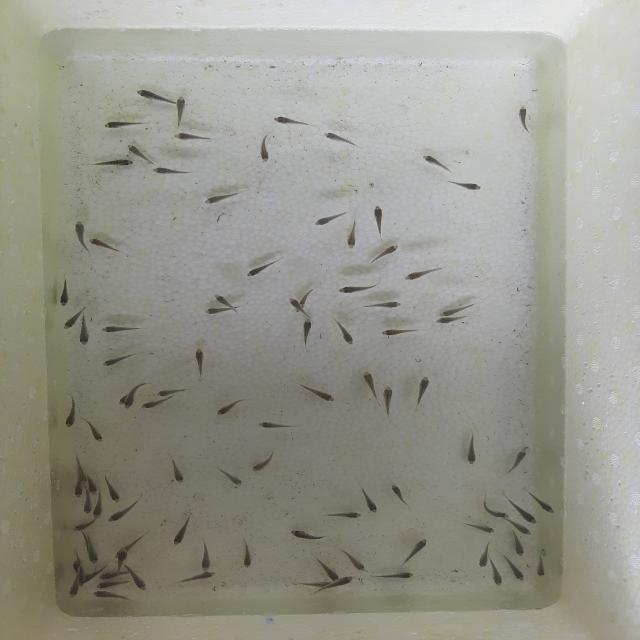fingerling: (293, 378, 339, 404), (242, 255, 283, 280), (305, 549, 338, 580), (172, 511, 197, 550), (504, 443, 528, 482), (104, 501, 147, 522), (509, 496, 540, 525), (173, 568, 217, 588), (530, 486, 561, 514), (80, 156, 138, 170), (387, 482, 419, 507), (332, 320, 360, 348), (403, 266, 441, 286), (314, 207, 347, 230), (402, 532, 428, 560), (356, 368, 380, 398), (368, 241, 400, 263), (102, 351, 140, 369), (421, 152, 452, 174), (170, 94, 190, 128), (476, 498, 510, 518), (238, 536, 258, 570), (341, 547, 368, 572), (62, 396, 83, 428), (248, 450, 280, 471), (463, 426, 479, 468), (257, 420, 304, 434), (131, 88, 172, 104), (415, 372, 433, 408), (214, 398, 248, 417), (270, 112, 316, 126), (455, 522, 501, 536), (215, 466, 244, 488), (368, 206, 388, 237), (192, 348, 212, 379), (82, 418, 104, 446), (257, 132, 275, 165), (287, 526, 324, 542), (316, 131, 358, 145), (507, 556, 528, 584), (54, 272, 70, 308), (102, 474, 121, 504), (201, 192, 241, 206), (89, 237, 124, 253), (359, 486, 379, 514), (76, 319, 94, 350), (487, 559, 505, 590), (171, 132, 213, 145), (379, 383, 395, 417), (97, 323, 142, 335), (72, 221, 90, 250), (368, 571, 419, 581), (332, 285, 382, 295), (150, 165, 195, 176), (445, 182, 486, 194), (165, 458, 185, 482), (125, 530, 149, 550), (438, 301, 472, 315), (141, 398, 175, 412), (198, 536, 211, 572), (344, 217, 358, 250), (300, 317, 314, 350), (530, 558, 551, 580), (322, 511, 368, 521), (128, 141, 152, 160), (296, 580, 336, 591), (85, 538, 102, 563), (359, 301, 401, 311), (506, 521, 536, 535), (507, 533, 526, 555), (100, 120, 151, 128), (132, 569, 149, 593), (74, 453, 88, 482), (517, 104, 529, 137), (477, 538, 490, 567), (124, 386, 138, 412), (331, 574, 353, 590), (156, 387, 190, 397), (65, 482, 86, 498), (92, 590, 129, 599), (212, 292, 234, 307), (63, 310, 78, 332), (381, 328, 422, 336), (68, 568, 78, 599), (202, 307, 238, 315), (117, 548, 127, 575), (97, 571, 122, 581), (72, 520, 91, 533), (94, 492, 103, 519), (432, 317, 472, 323), (82, 492, 92, 515), (78, 565, 87, 589), (87, 478, 101, 493), (97, 581, 123, 588), (71, 558, 82, 572), (287, 297, 302, 306)
